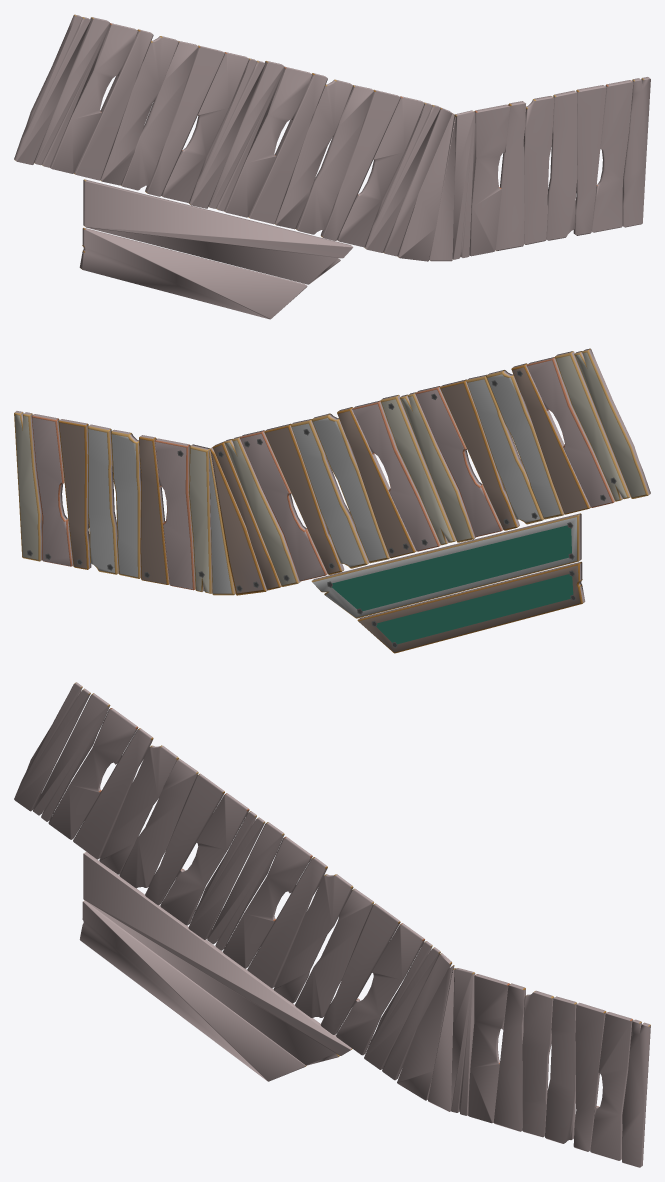
Rendered from FishingDockLarge.fbx.
The picture shows the model from 3 angles, top to bottom: view 1: azimuth 30°, elevation 25°; view 2: azimuth 150°, elevation 25°; view 3: azimuth 330°, elevation 25°; orthographic projection.
Visible parts, largest first — view 1: FishingDockLarge; view 2: FishingDockLarge; view 3: FishingDockLarge.
Part boxes in pixels (x1,y1,x2,y2): FishingDockLarge: (14, 14, 650, 319); FishingDockLarge: (14, 348, 650, 653); FishingDockLarge: (14, 682, 650, 1167).
Bounding box in the file's own units: 1709 × 902 × 15.37.
